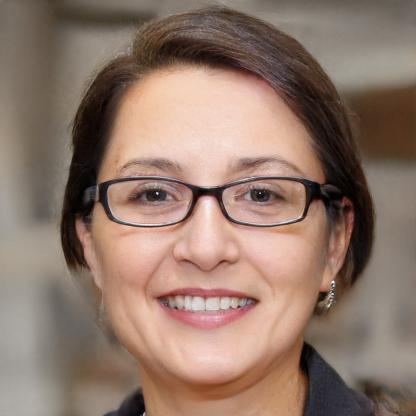glasses: (88, 171, 323, 230)
